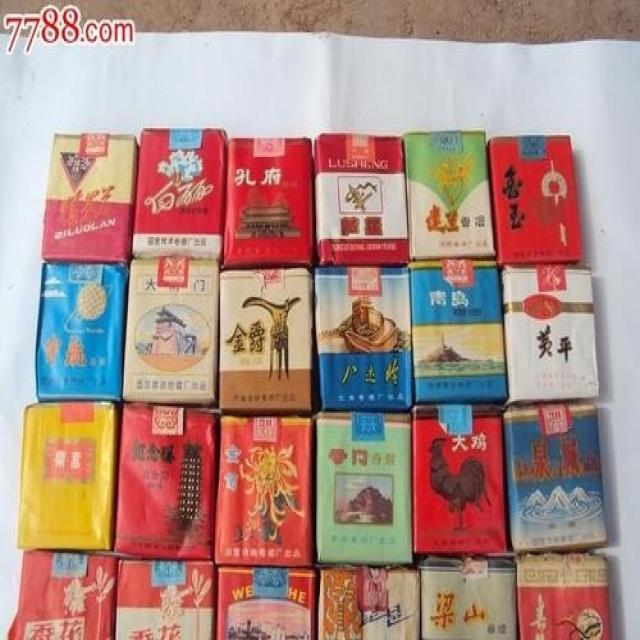box: (114, 403, 218, 561), (503, 401, 609, 553), (15, 401, 120, 553), (215, 415, 315, 567), (316, 411, 413, 565), (500, 265, 602, 406), (413, 406, 508, 556), (410, 259, 508, 404), (122, 258, 219, 404), (316, 265, 413, 410), (219, 270, 314, 413), (36, 263, 128, 401), (41, 133, 140, 261), (488, 135, 584, 265), (315, 131, 408, 265), (221, 138, 315, 270), (132, 130, 228, 258), (404, 131, 498, 261), (17, 551, 118, 640), (516, 551, 612, 640), (421, 556, 517, 640), (317, 563, 421, 640), (115, 560, 215, 640), (215, 565, 316, 638)
